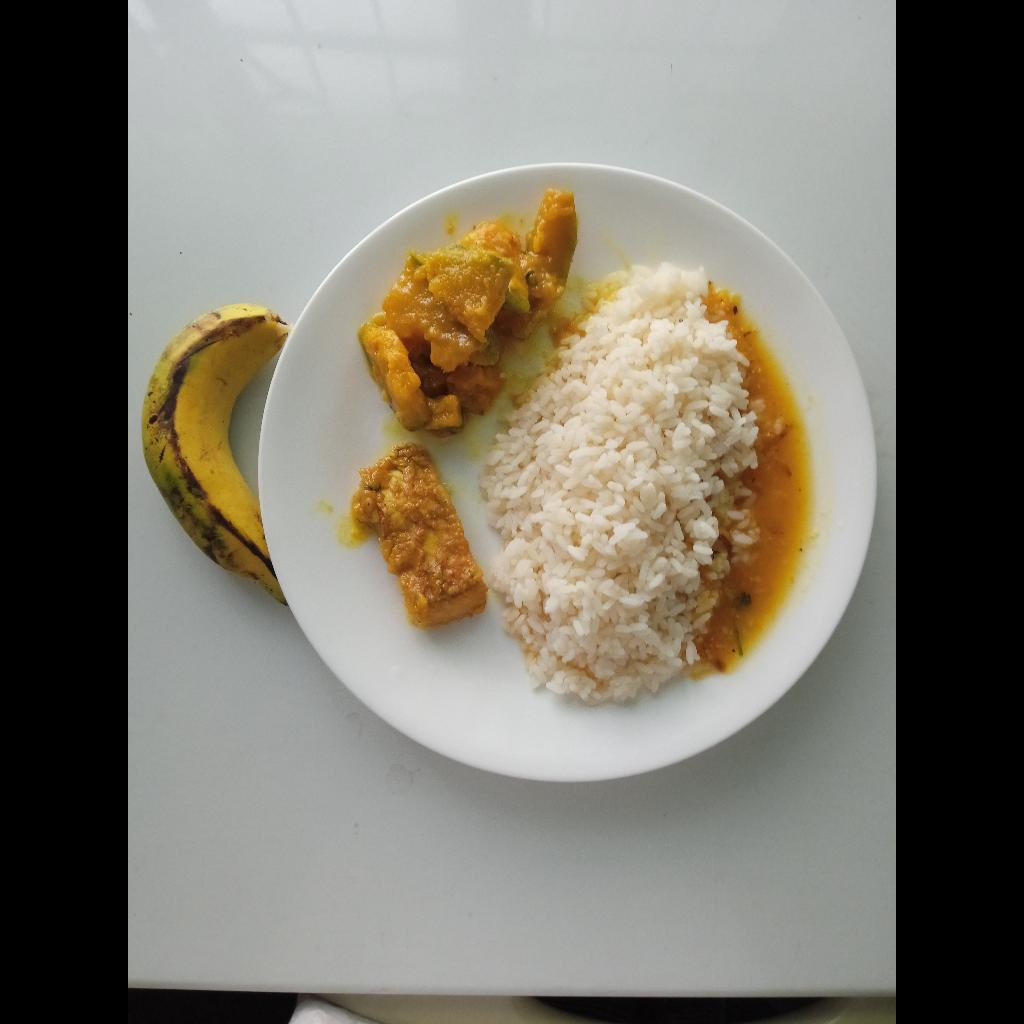banana: (145, 303, 284, 591)
fish: (359, 447, 488, 623)
kumra-vaji: (365, 197, 566, 433)
rice: (483, 270, 756, 704)
